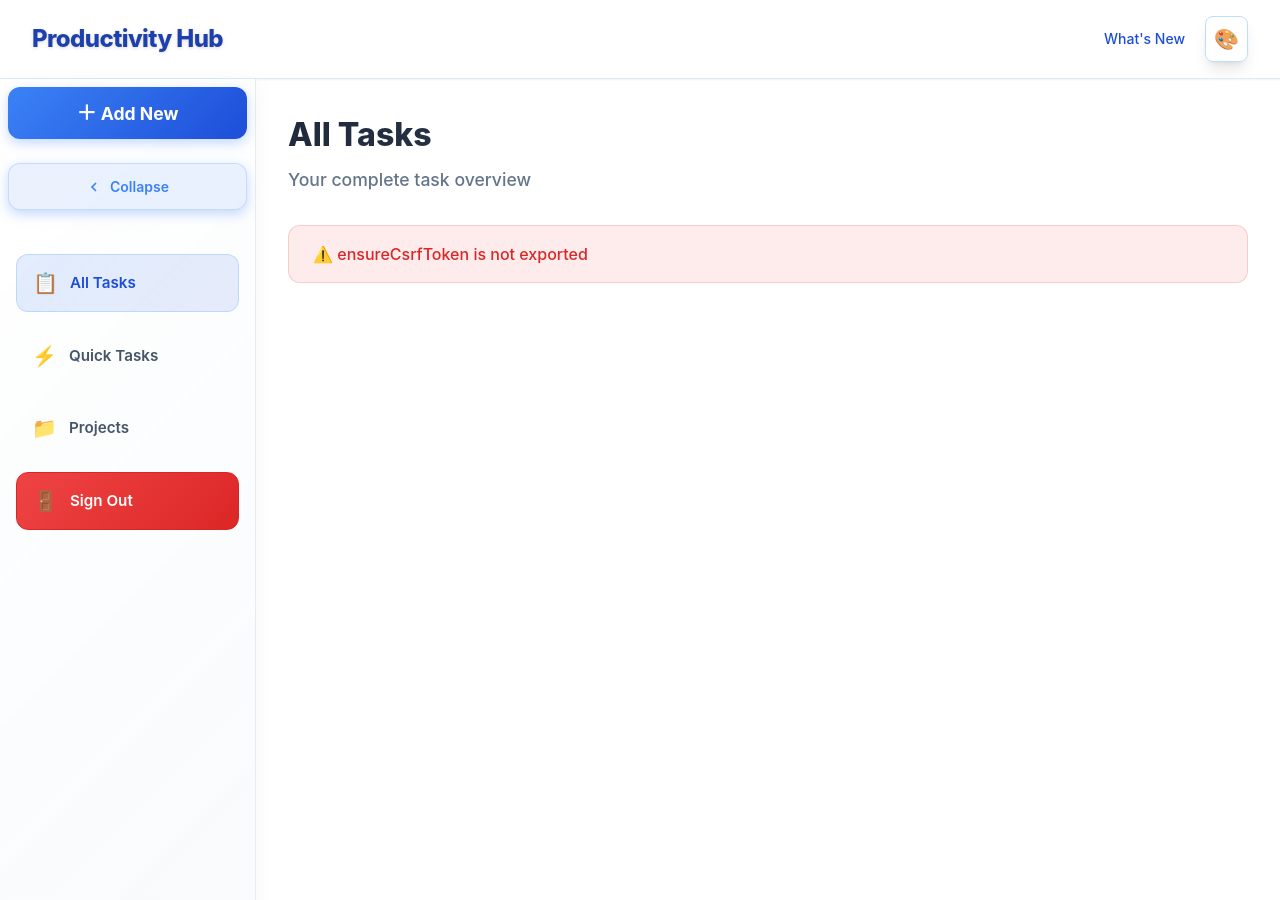
Test: MainManagementWindow - Additional Coverage › Advanced Features & Edge Cases › handles window resize and responsive behavior
This screenshot has width=1280, height=900.
Click the button with aria-label "Collapse sidebar". click: coordinates (128, 187)
box: [8,163,247,210]
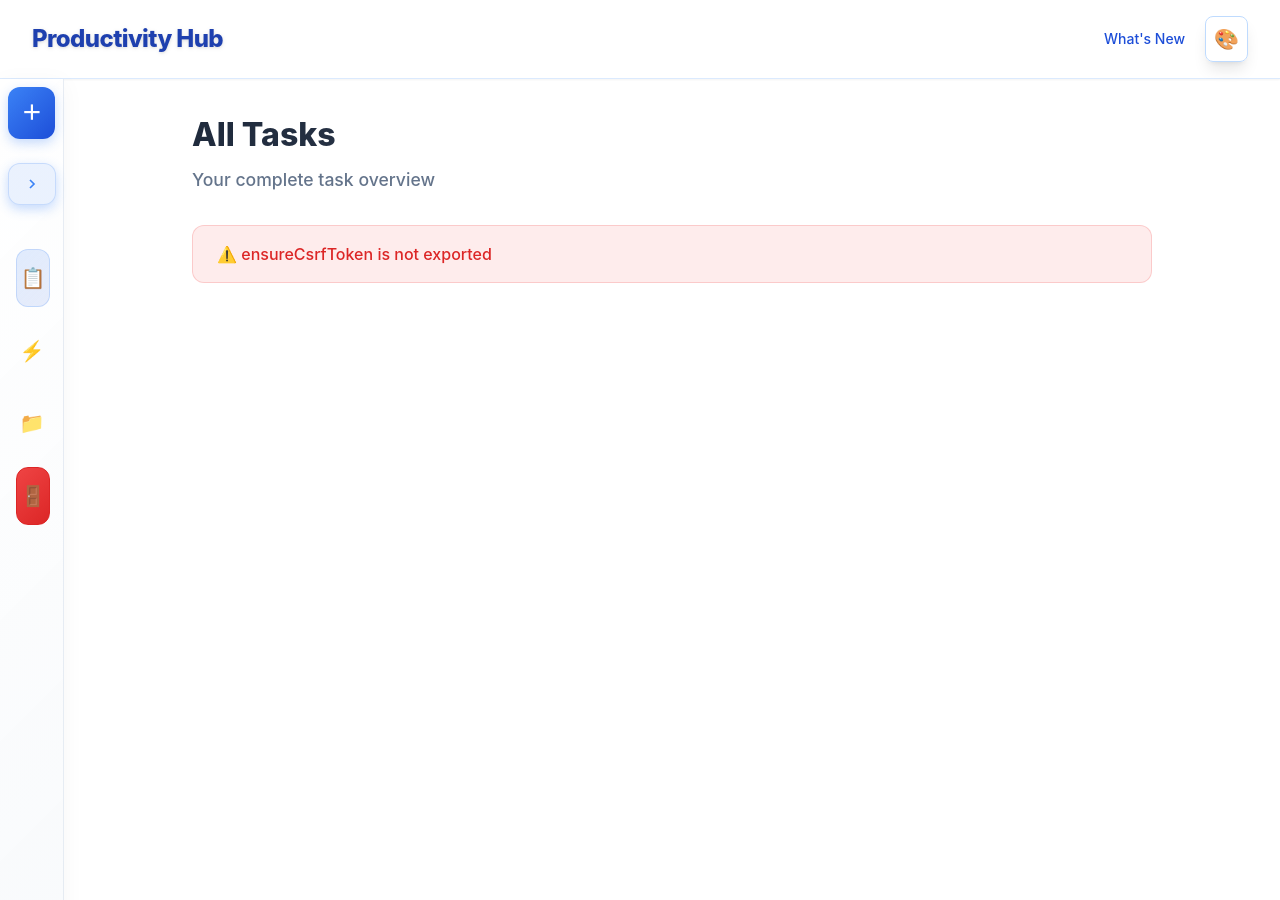
Check: the button named "Expand sidebar" is shown, box [8,163,56,205]
